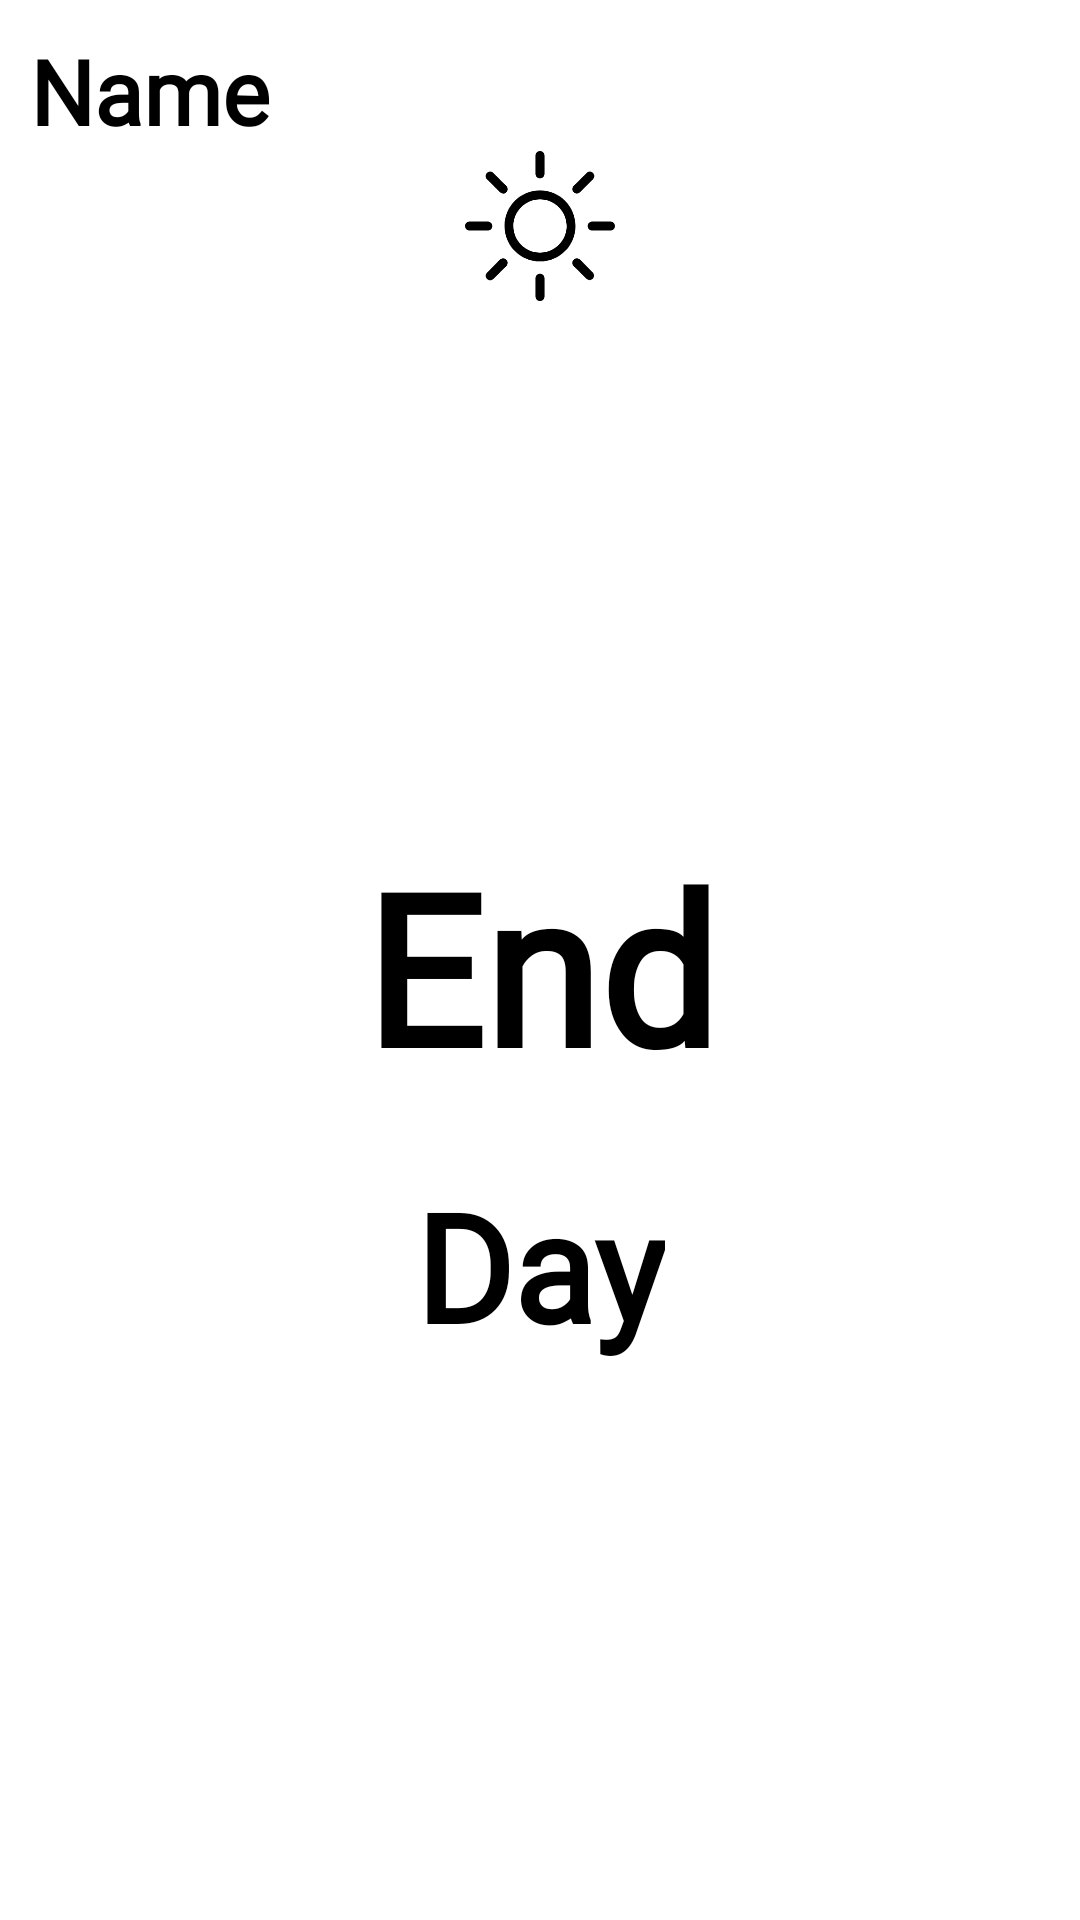

Where icons sit on this 1080x1920 app screen, as (x1, y1, x2, y2):
day: (465, 151, 615, 301)
